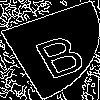B: (25, 25, 91, 80)
